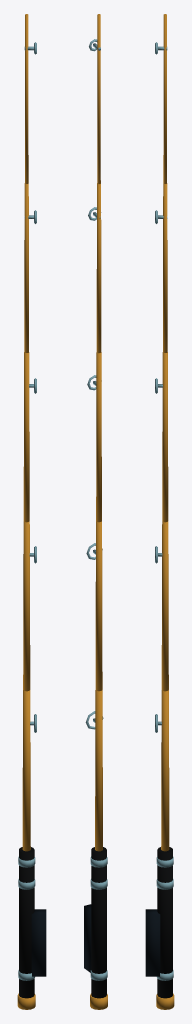
Rendered from medium_rod.glb.
The picture shows the model from 3 angles, left to right: view 1: azimuth 90°, elevation 25°; view 2: azimuth 210°, elevation 25°; view 3: azimuth 270°, elevation 25°; orthographic projection.
Parts seen in each view (by area): view 1: medium_rod_Handle, medium_rod_Segment1, medium_rod_Segment2, medium_rod_Segment3, medium_rod_Segment4, medium_rod_Segment5; view 2: medium_rod_Handle, medium_rod_Segment1, medium_rod_Segment2, medium_rod_Segment3, medium_rod_Segment4, medium_rod_Segment5; view 3: medium_rod_Handle, medium_rod_Segment1, medium_rod_Segment2, medium_rod_Segment3, medium_rod_Segment4, medium_rod_Segment5.
Boxes of the visible parts, bbox=[...] form: medium_rod_Handle: bbox=[17, 847, 46, 1009]; medium_rod_Segment1: bbox=[22, 690, 36, 851]; medium_rod_Segment2: bbox=[23, 521, 36, 691]; medium_rod_Segment3: bbox=[23, 352, 36, 522]; medium_rod_Segment4: bbox=[24, 183, 36, 352]; medium_rod_Segment5: bbox=[24, 14, 36, 183]; medium_rod_Handle: bbox=[84, 847, 107, 1009]; medium_rod_Segment1: bbox=[85, 690, 103, 851]; medium_rod_Segment2: bbox=[86, 521, 102, 691]; medium_rod_Segment3: bbox=[87, 352, 101, 522]; medium_rod_Segment4: bbox=[88, 183, 101, 353]; medium_rod_Segment5: bbox=[89, 14, 100, 183]; medium_rod_Handle: bbox=[145, 847, 174, 1009]; medium_rod_Segment1: bbox=[155, 690, 169, 851]; medium_rod_Segment2: bbox=[155, 521, 168, 691]; medium_rod_Segment3: bbox=[155, 352, 168, 522]; medium_rod_Segment4: bbox=[155, 183, 167, 352]; medium_rod_Segment5: bbox=[155, 14, 167, 183].
Size of the model in its own units: 0.042 by 2.23 by 0.0584.
Materials: 1 (1 with a texture image).
